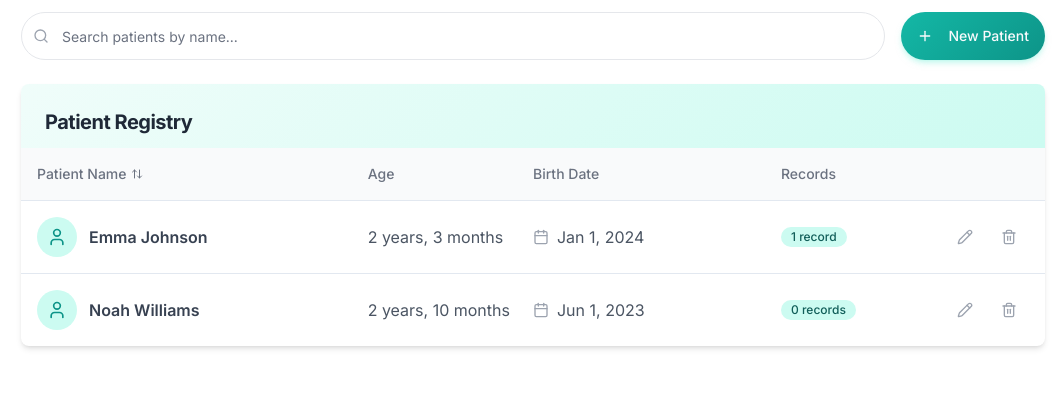
Test: PatientList › shows empty state when no patients match search
Type "zzznomatch" into the field with placeholder "Search patients by name..." at (453, 36), box [21,12,884,60]
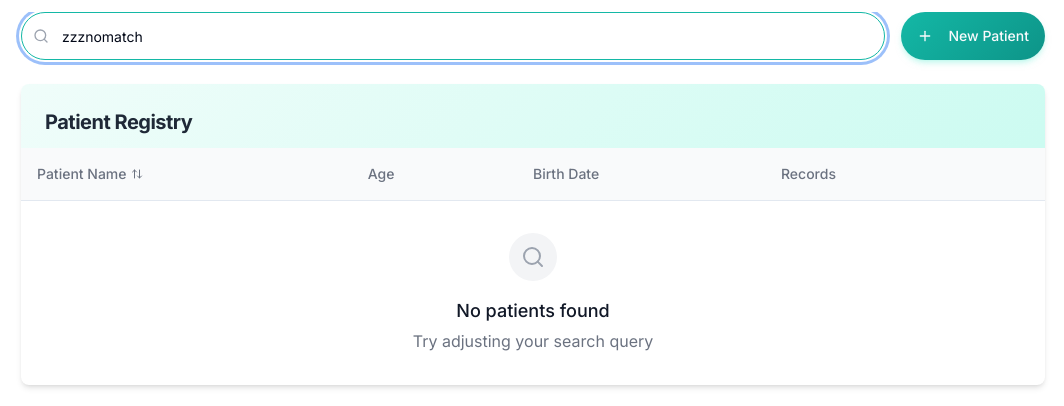
Now the heading "No patients found" is shown, box [456,300,610,321]
Now the text "Try adjusting your search query" is shown, box [413,331,653,351]
